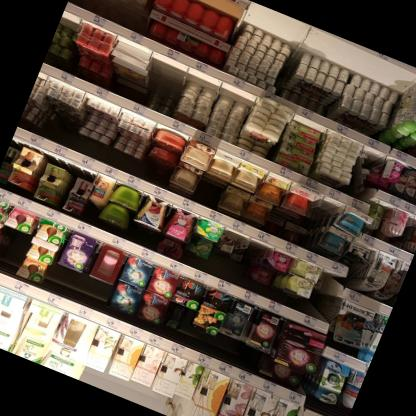empty_space: (238, 235, 267, 274)
